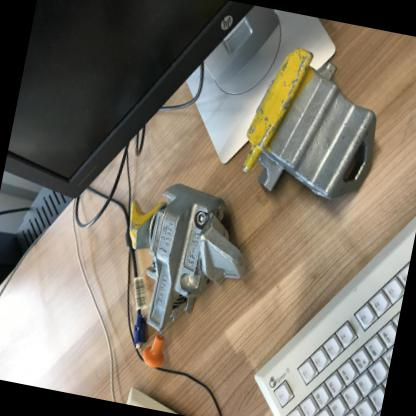Twistlock: (99, 167, 264, 385), (233, 34, 396, 216)
